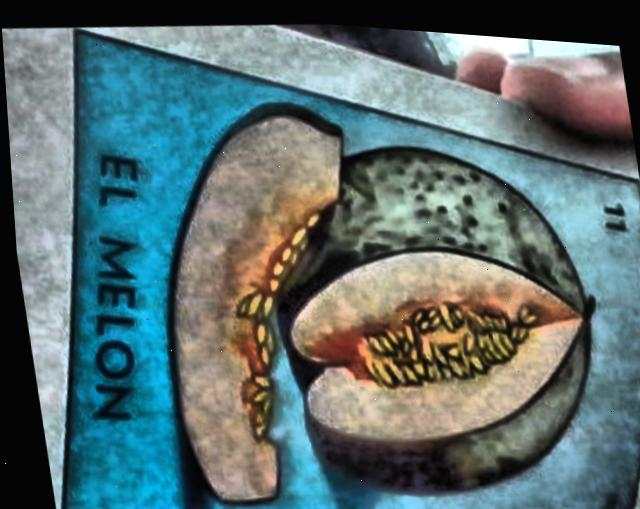El Melon: (58, 31, 635, 509)
